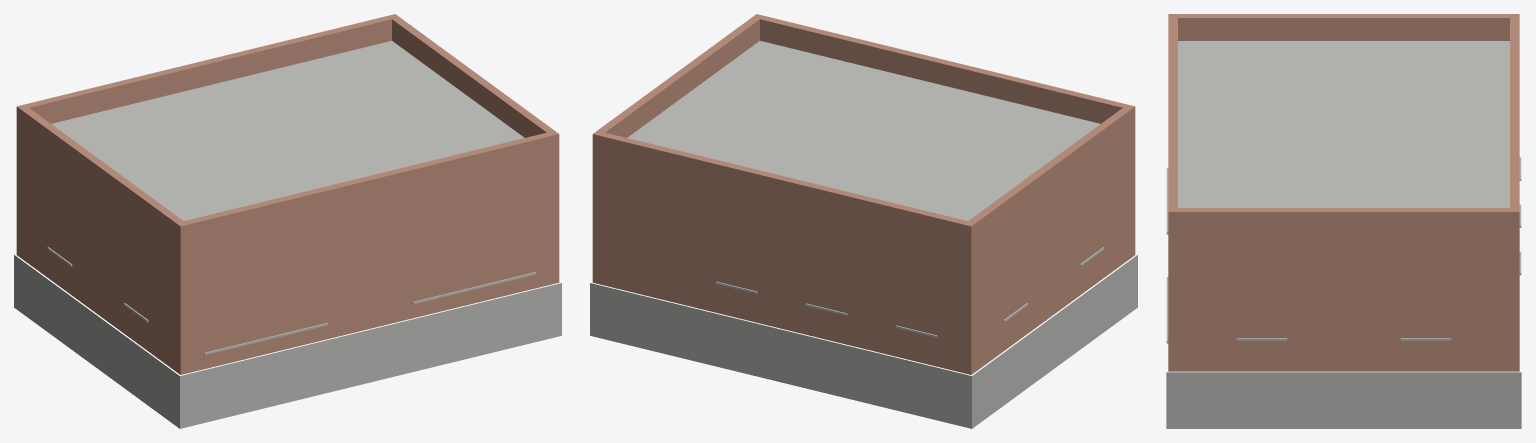
File: shop.glb
3 views of the same model, side by side, from view 1: azimuth 30°, elevation 25°; view 2: azimuth 150°, elevation 25°; view 3: azimuth 270°, elevation 25° (orthographic). The views are drawn at different scales.
Parts seen in each view (by area): view 1: hi, far; view 2: hi, far; view 3: hi, far.
Part boxes in pixels (left/top/right/bottom): hi: left=14, top=14, right=561, bottom=428; far: left=16, top=152, right=559, bottom=373; hi: left=590, top=14, right=1137, bottom=428; far: left=592, top=150, right=1135, bottom=374; hi: left=1166, top=14, right=1521, bottom=428; far: left=1168, top=244, right=1519, bottom=371.
Bounding box in the file's own units: 12.1 × 6.1 × 9.1.
